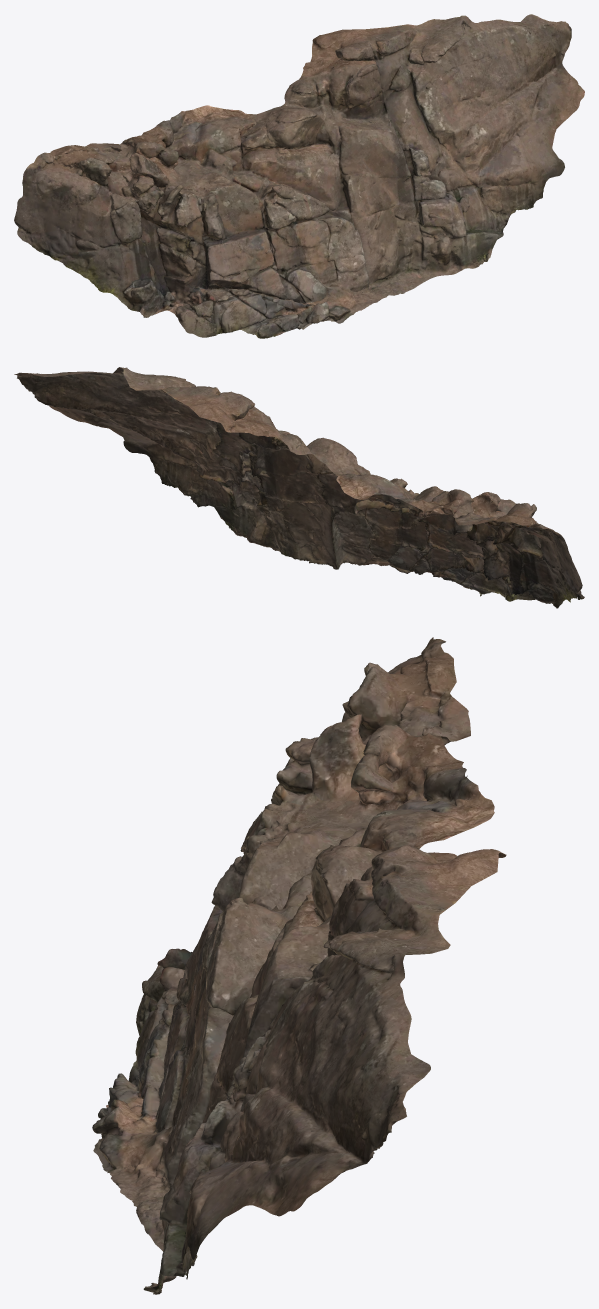
File: namaqualand_cliff_02.glb
3 views of the same model, one above another, from view 1: azimuth 30°, elevation 25°; view 2: azimuth 150°, elevation 25°; view 3: azimuth 270°, elevation 25° (orthographic). The views are drawn at different scales.
Visible parts, largest first — view 1: drone_rock_02_LOD0; view 2: drone_rock_02_LOD0; view 3: drone_rock_02_LOD0.
Boxes of the visible parts, <box> form: drone_rock_02_LOD0: <box>14,14,584,338</box>; drone_rock_02_LOD0: <box>14,367,584,608</box>; drone_rock_02_LOD0: <box>92,637,506,1294</box>.
Size of the model in its own units: 20.23 by 7.18 by 6.59.
1 material, 1 textured.
